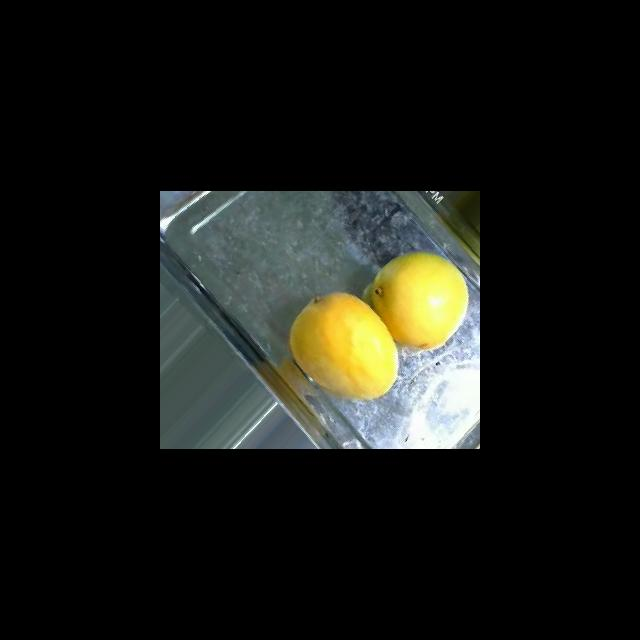mango: (288, 291, 399, 401), (361, 250, 469, 352)
